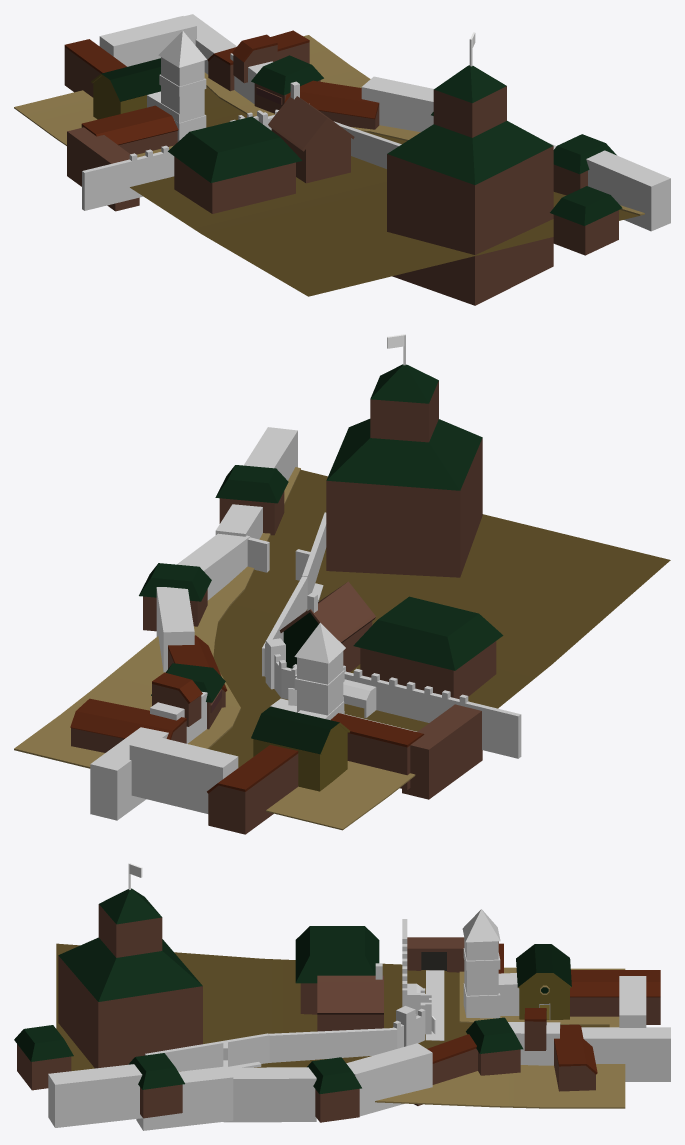
Rendered from w1-assignment.fbx.
3 renders of one model, top to bottom at view 1: azimuth 30°, elevation 25°; view 2: azimuth 150°, elevation 25°; view 3: azimuth 270°, elevation 25°, orthographic. The views are drawn at different scales.
Parts seen in each view (by area): view 1: pPlane1, pCube5, pCube12, pCube10, pCube61, pCube53, pCube35, pCube57, pCube37, pCube45, pCube38, pCube55 (+12 smaller); view 2: pPlane1, pCube5, pCube12, pCube55, pCube54, pCube37, pCube59, pCube35, pCube10, pCube46, pCube57, pCube56 (+14 smaller); view 3: pPlane1, pCube5, pCube61, pCube12, pCube48, pCube45, pCube56, pCube10, pCube7, pCube37, pCube60, pCube54 (+18 smaller).
Part boxes in pixels (<box>): pPlane1: <box>14,35,644,296</box>; pCube5: <box>387,65,553,305</box>; pCube12: <box>168,116,301,213</box>; pCube10: <box>268,96,354,183</box>; pCube61: <box>586,150,670,231</box>; pCube53: <box>550,186,622,255</box>; pCube35: <box>82,152,174,210</box>; pCube57: <box>81,105,178,154</box>; pCube37: <box>91,58,160,119</box>; pCube45: <box>361,76,433,132</box>; pCube38: <box>158,31,206,122</box>; pCube55: <box>99,16,196,66</box>; pPlane1: <box>14,467,670,830</box>; pCube5: <box>326,364,482,577</box>; pCube12: <box>353,596,503,699</box>; pCube55: <box>129,734,238,813</box>; pCube54: <box>207,745,298,834</box>; pCube37: <box>251,706,349,791</box>; pCube59: <box>402,704,482,799</box>; pCube35: <box>344,671,521,758</box>; pCube10: <box>279,581,375,672</box>; pCube46: <box>70,698,186,752</box>; pCube57: <box>330,713,424,789</box>; pCube56: <box>90,727,168,820</box>; pPlane1: <box>56,943,625,1108</box>; pCube5: <box>58,888,202,1068</box>; pCube61: <box>48,1064,142,1127</box>; pCube12: <box>295,926,379,1014</box>; pCube48: <box>224,1067,316,1122</box>; pCube45: <box>346,1043,432,1116</box>; pCube56: <box>581,1027,670,1081</box>; pCube10: <box>317,975,383,1031</box>; pCube7: <box>268,1028,397,1062</box>; pCube37: <box>516,944,571,1019</box>; pCube60: <box>136,1066,233,1130</box>; pCube54: <box>570,970,660,1024</box>.
Size of the model in its own units: 52.98 by 28.83 by 76.68.
